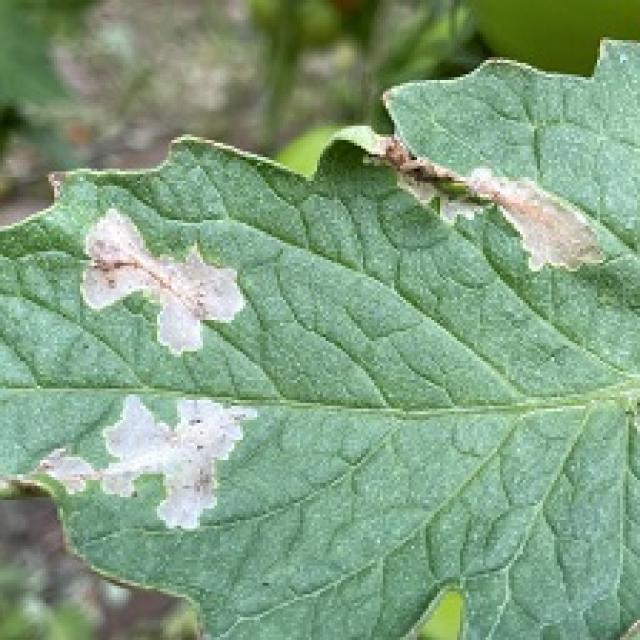Tuta absoluta: (363, 104, 616, 294), (34, 348, 255, 541), (56, 196, 256, 370)
